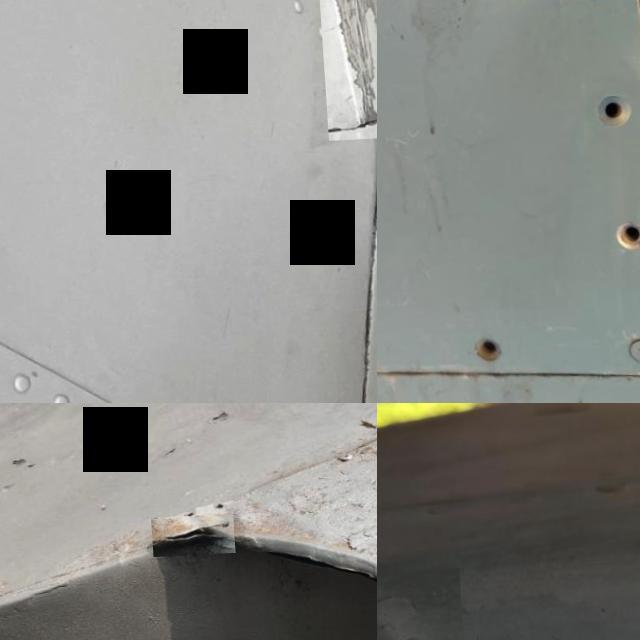Crack: (314, 0, 377, 144), (148, 517, 232, 559)
Dent: (377, 572, 463, 640)
Missing_Fastener: (447, 326, 518, 386), (576, 86, 640, 151), (590, 209, 640, 278), (554, 0, 634, 21), (372, 320, 377, 346)
